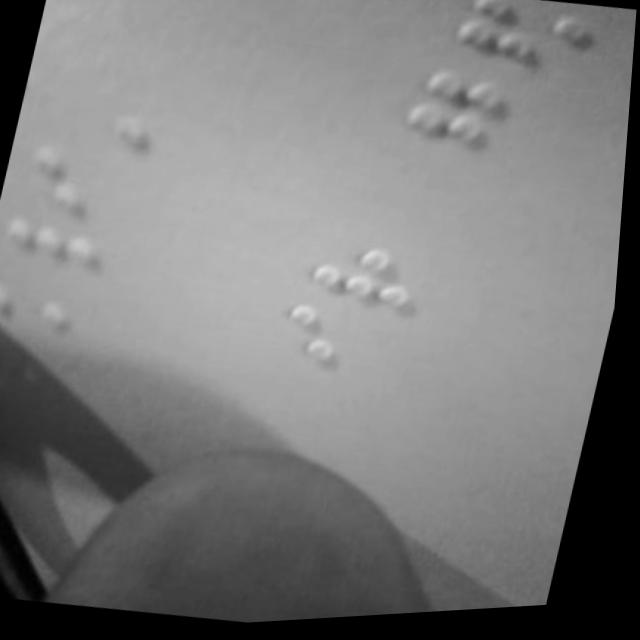braiile: (396, 60, 557, 172), (432, 0, 608, 97), (269, 301, 420, 402), (305, 240, 447, 339), (19, 143, 150, 230), (0, 209, 122, 297), (113, 0, 253, 15)
